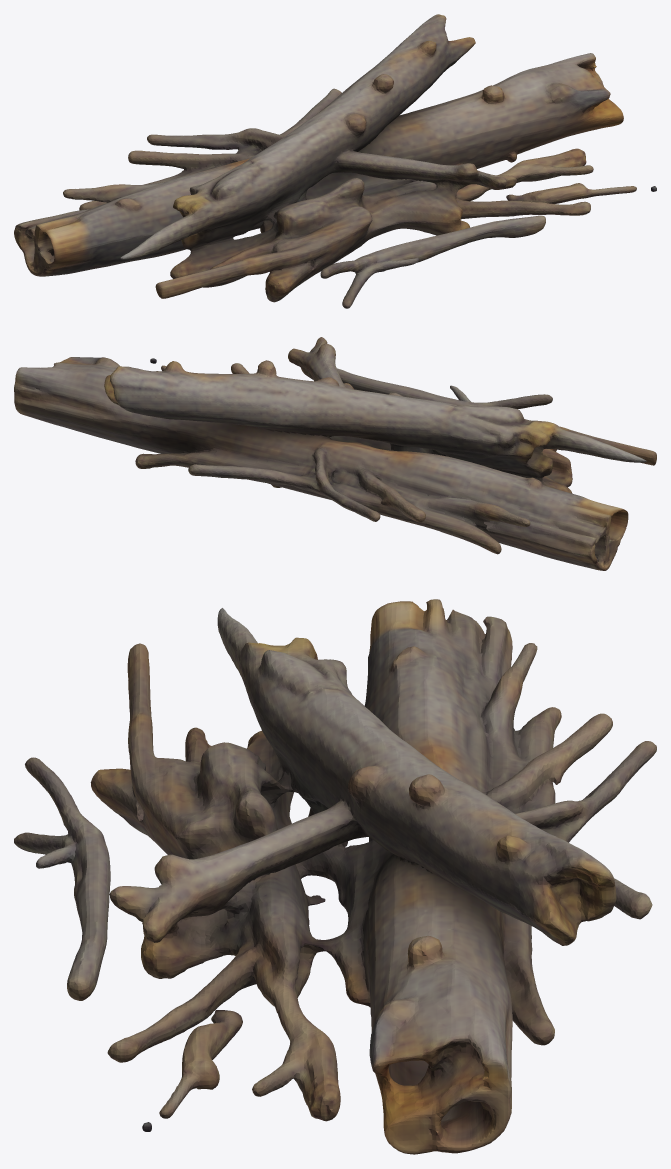
Rendered from scatter_sticks.glb.
The picture shows the model from 3 angles, top to bottom: view 1: azimuth 30°, elevation 25°; view 2: azimuth 150°, elevation 25°; view 3: azimuth 270°, elevation 25°; orthographic projection. The views are drawn at different scales.
Visible parts, largest first — view 1: world; view 2: world; view 3: world.
Boxes of the visible parts, x1=… form: world: x1=14, y1=14, x2=656, y2=308; world: x1=14, y1=337, x2=656, y2=570; world: x1=14, y1=599, x2=656, y2=1154.
Size of the model in its own units: 0.9996 by 0.2053 by 0.5415.
